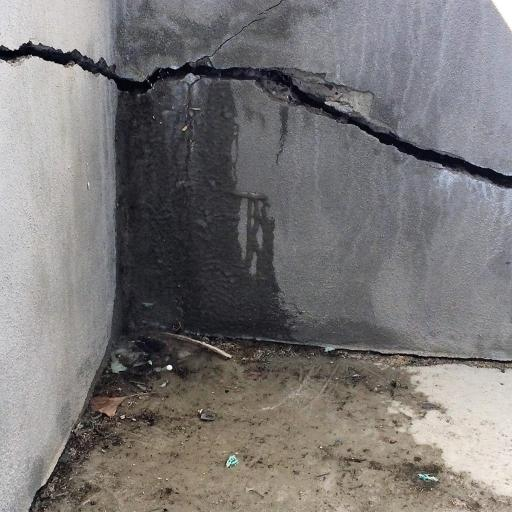spalling: (4, 36, 509, 199), (212, 5, 286, 48)
